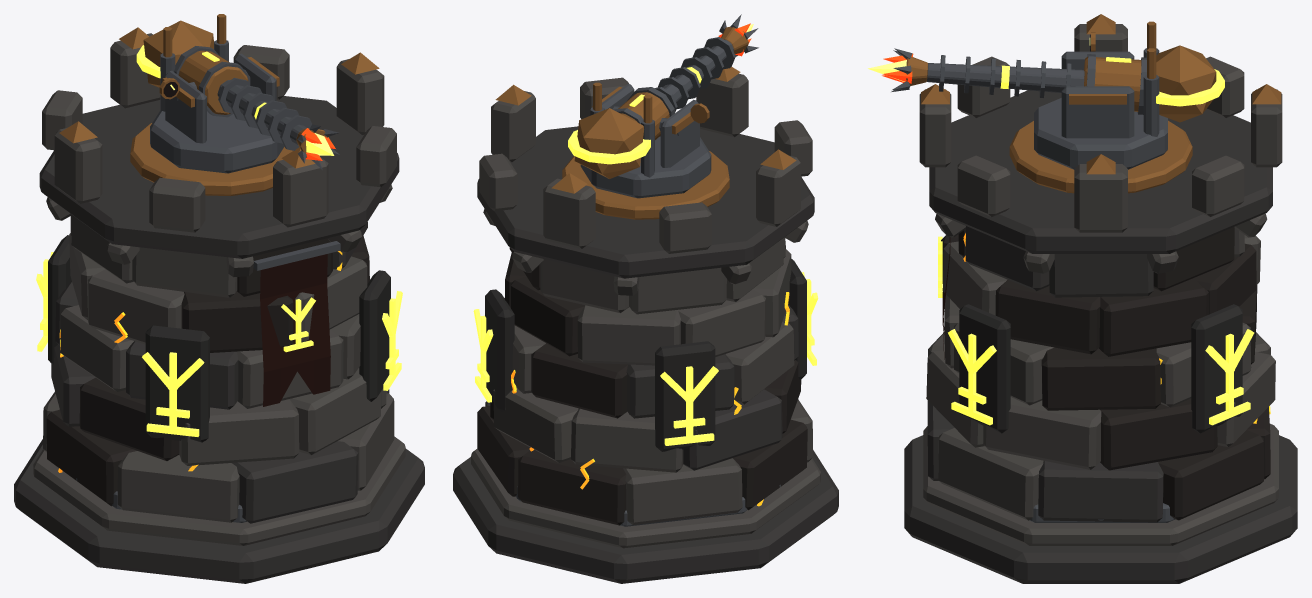
File: fire_tower_rapid.glb
The picture shows the model from 3 angles, left to right: view 1: azimuth 30°, elevation 25°; view 2: azimuth 150°, elevation 25°; view 3: azimuth 270°, elevation 25°; orthographic projection. The views are drawn at different scales.
Parts seen in each view (by area): view 1: Platform, Plinth, Plinth_Step, Banner, Block_0_6, Block_0_5, Block_1_5, RuneStone_3, Turret_Base, Block_3_5, Block_3_4, Block_1_6 (+32 smaller); view 2: Platform, Plinth, Plinth_Step, Block_0_3, Block_0_2, Block_3_2, Block_1_2, Block_2_2, RuneStone_2, Block_1_3, Block_1_1, Block_3_3 (+31 smaller); view 3: Platform, Plinth, Plinth_Step, Block_0_0, Block_2_0, Block_3_0, Block_1_0, Block_0_7, Block_1_7, Block_0_1, Block_3_7, Turret_Base (+34 smaller).
Part boxes in pixels (x1=…): Platform: x1=39, y1=96, x2=399, y2=258; Plinth: x1=14, y1=439, x2=424, y2=583; Plinth_Step: x1=33, y1=436, x2=405, y2=545; Banner: x1=260, y1=254, x2=330, y2=406; Block_0_6: x1=232, y1=441, x2=358, y2=523; Block_0_5: x1=117, y1=451, x2=239, y2=522; Block_1_5: x1=179, y1=399, x2=299, y2=465; RuneStone_3: x1=145, y1=325, x2=209, y2=442; Turret_Base: x1=150, y1=111, x2=284, y2=173; Block_3_5: x1=181, y1=291, x2=293, y2=352; Block_3_4: x1=87, y1=269, x2=184, y2=344; Block_1_6: x1=289, y1=367, x2=380, y2=454; Platform: x1=477, y1=126, x2=814, y2=278; Plinth: x1=453, y1=450, x2=838, y2=583; Plinth_Step: x1=471, y1=448, x2=820, y2=548; Block_0_3: x1=623, y1=458, x2=742, y2=524; Block_0_2: x1=518, y1=449, x2=626, y2=525; Block_3_2: x1=577, y1=305, x2=680, y2=365; Block_1_2: x1=571, y1=408, x2=683, y2=472; Block_2_2: x1=531, y1=343, x2=627, y2=418; RuneStone_2: x1=655, y1=341, x2=715, y2=451; Block_1_3: x1=683, y1=389, x2=782, y2=470; Block_1_1: x1=493, y1=386, x2=578, y2=462; Block_3_3: x1=678, y1=289, x2=765, y2=356; Platform: x1=929, y1=90, x2=1272, y2=253; Plinth: x1=904, y1=435, x2=1297, y2=583; Plinth_Step: x1=923, y1=423, x2=1278, y2=545; Block_0_0: x1=1038, y1=461, x2=1163, y2=522; Block_2_0: x1=1041, y1=347, x2=1160, y2=410; Block_3_0: x1=1099, y1=278, x2=1208, y2=356; Block_1_0: x1=1100, y1=398, x2=1217, y2=470; Block_0_7: x1=938, y1=428, x2=1043, y2=520; Block_1_7: x1=983, y1=397, x2=1101, y2=469; Block_0_1: x1=1158, y1=430, x2=1263, y2=520; Block_3_7: x1=995, y1=280, x2=1100, y2=354; Turret_Base: x1=1034, y1=98, x2=1167, y2=169.
Size of the model in its own units: 2.49 by 3.27 by 2.73.
